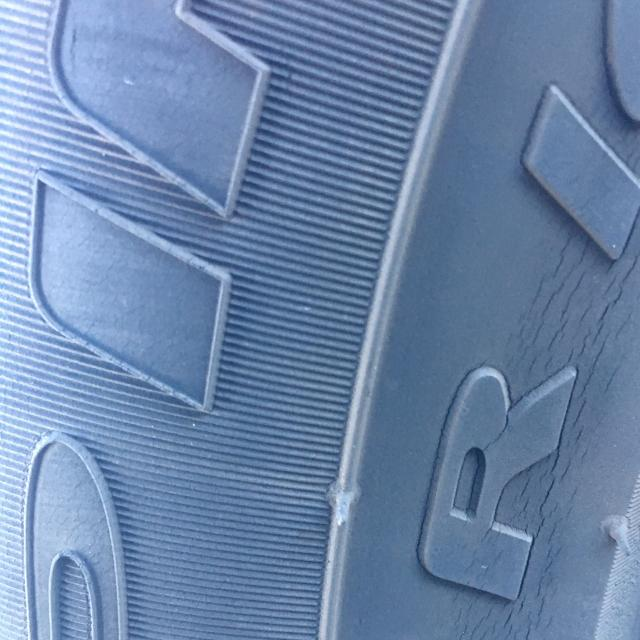Cracks: (438, 115, 640, 640)
